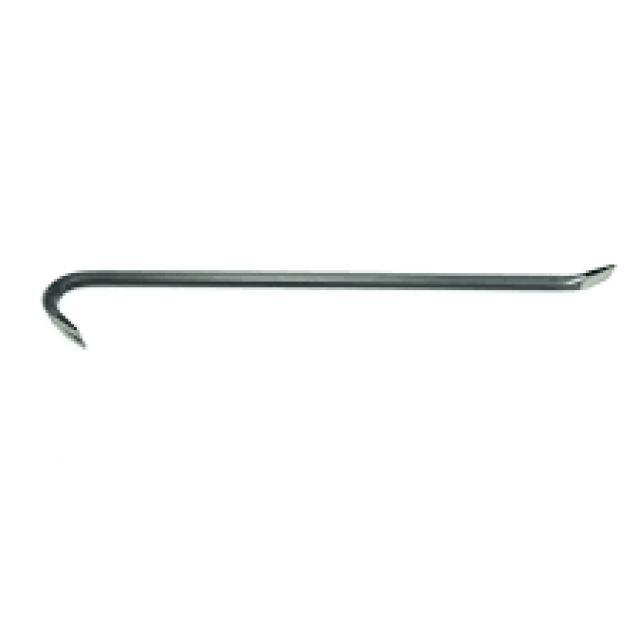Linggis: (37, 244, 622, 360)
